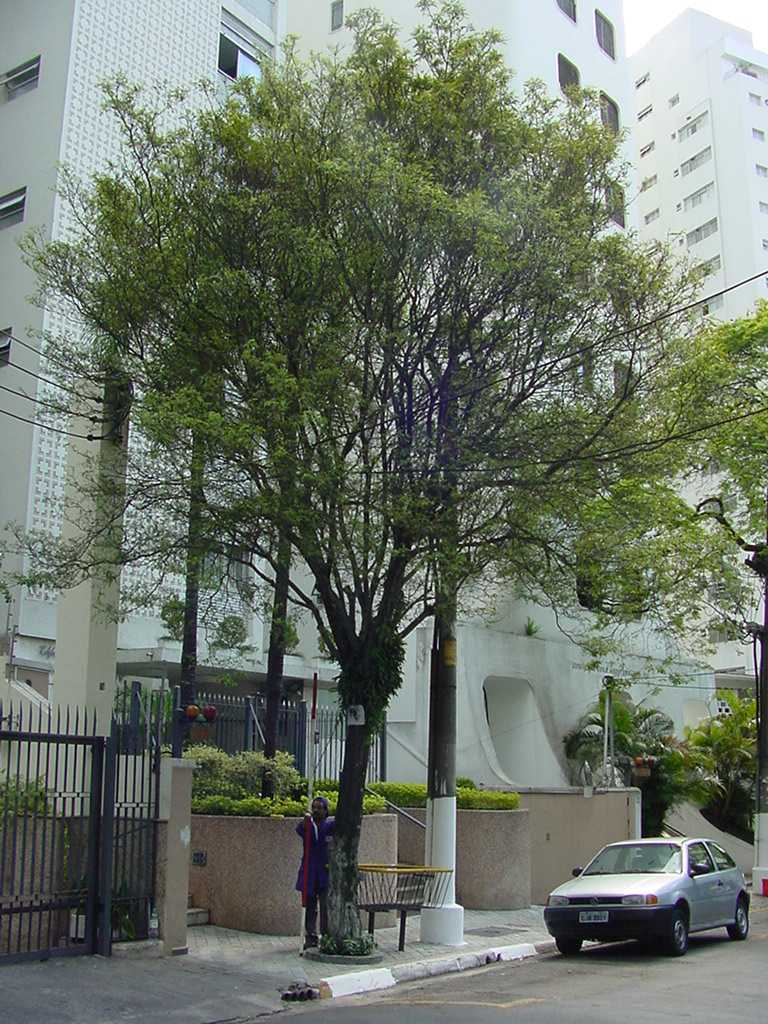crown: (15, 4, 732, 665)
stem: (319, 669, 407, 956)
stick: (289, 674, 333, 956)
tree: (15, 1, 733, 960)
